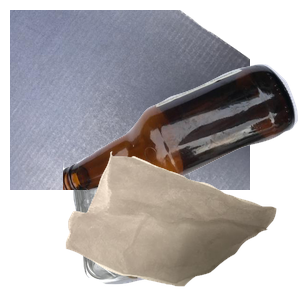cardboard: (10, 10, 250, 190)
glass: (63, 62, 300, 242)
plastic: (71, 154, 300, 300)
trash: (63, 149, 300, 300)
